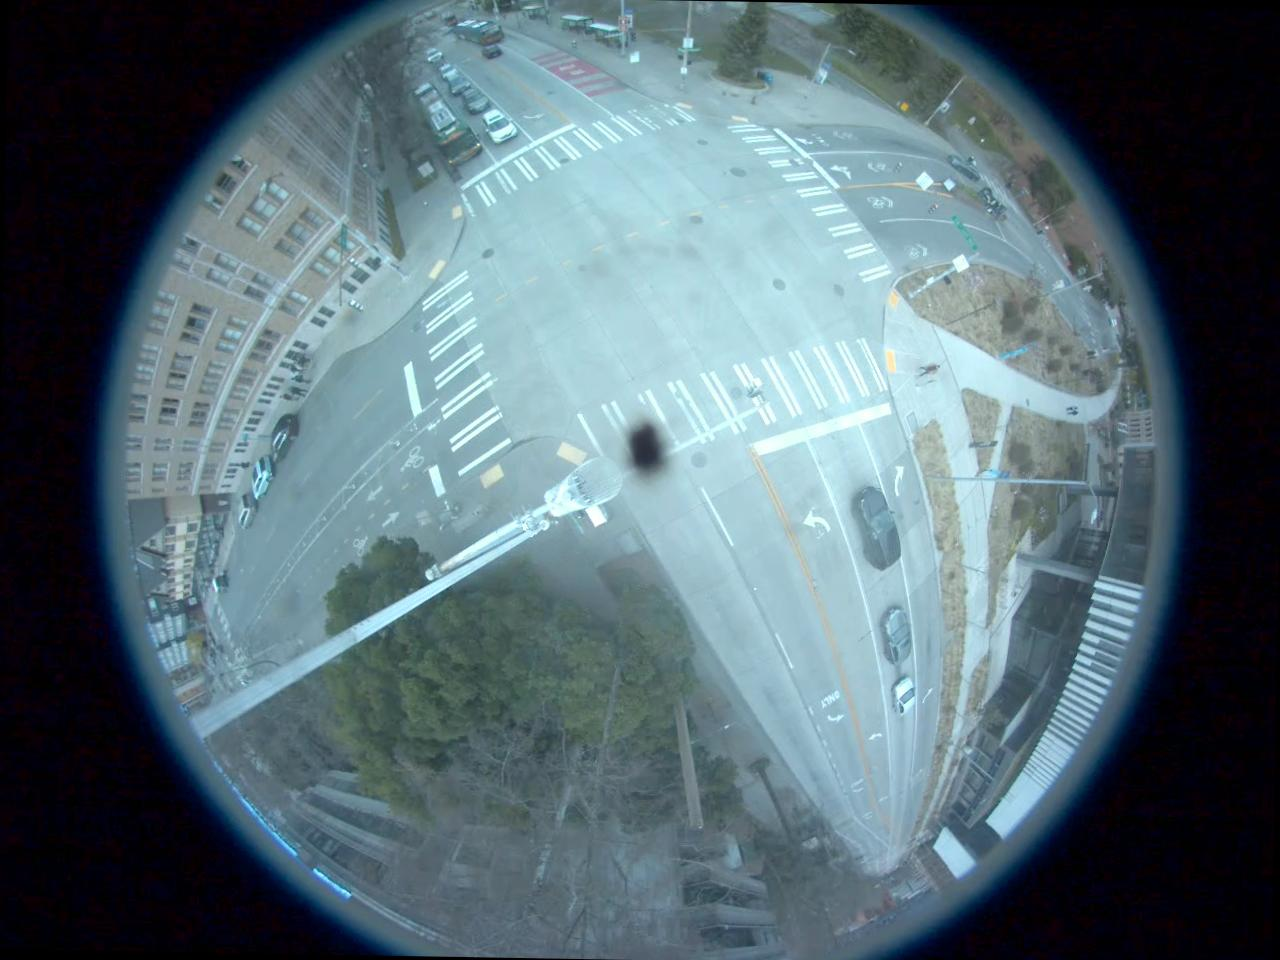bus: (412, 81, 479, 169), (452, 17, 508, 40)
car: (860, 484, 896, 570), (883, 606, 910, 661), (270, 415, 298, 466), (248, 450, 274, 500), (890, 676, 918, 714), (484, 111, 514, 146), (236, 493, 257, 531), (949, 160, 983, 183), (464, 90, 488, 118), (478, 43, 505, 61), (449, 76, 471, 96), (438, 60, 458, 82)
person: (918, 363, 944, 380), (292, 352, 315, 369), (288, 373, 314, 386), (286, 385, 310, 396), (288, 366, 311, 376), (277, 392, 299, 402)
